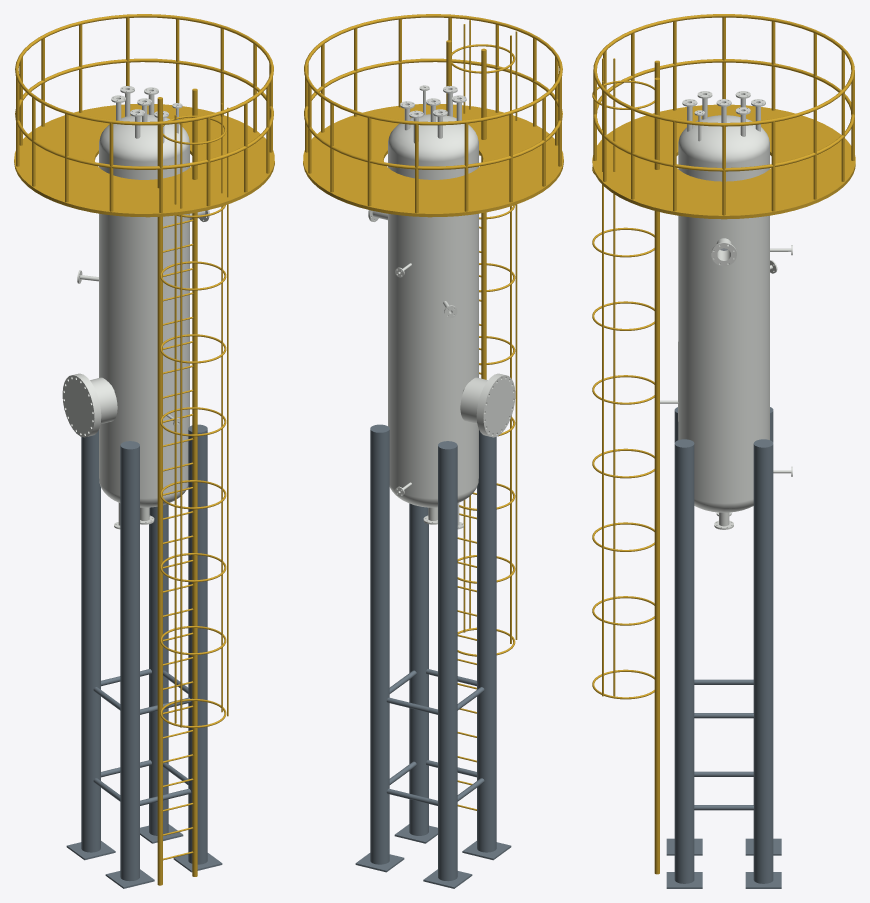
File: separator.glb
3 views of the same model, side by side, from view 1: azimuth 30°, elevation 25°; view 2: azimuth 150°, elevation 25°; view 3: azimuth 270°, elevation 25° (orthographic).
Parts seen in each view (by area): view 1: legs, V-1 shell, ladder and platform/part50, ladder and platform/part8, ladder and platform/part7, ladder and platform/part52, ladder and platform/part51, ladder and platform/part47, ladder and platform/part46, ladder and platform/part49, ladder and platform/part48; view 2: legs, V-1 shell, ladder and platform/part50, ladder and platform/part52, ladder and platform/part51, ladder and platform/part47, ladder and platform/part7, ladder and platform/part46, ladder and platform/part48; view 3: V-1 shell, legs, ladder and platform/part50, ladder and platform/part8, ladder and platform/part52, ladder and platform/part51, ladder and platform/part48, ladder and platform/part49.
Boxes of the visible parts, x1,y1,x2,y2 form: legs: (66,424,222,888); V-1 shell: (62,86,209,529); ladder and platform/part50: (14,104,274,217); ladder and platform/part8: (192,88,197,876); ladder and platform/part7: (157,97,162,885); ladder and platform/part52: (15,14,273,125); ladder and platform/part51: (15,58,273,169); ladder and platform/part47: (180,119,182,727); ladder and platform/part46: (174,114,176,723); ladder and platform/part49: (227,107,228,716); ladder and platform/part48: (221,103,222,712); legs: (355,424,511,888); V-1 shell: (368,85,515,529); ladder and platform/part50: (303,104,563,217); ladder and platform/part52: (304,14,562,125); ladder and platform/part51: (304,58,562,169); ladder and platform/part47: (515,31,517,639); ladder and platform/part7: (481,48,486,379); ladder and platform/part46: (510,35,511,643); ladder and platform/part48: (463,24,465,632); V-1 shell: (660,91,792,529); legs: (666,407,781,888); ladder and platform/part50: (592,104,855,219); ladder and platform/part8: (654,77,659,874); ladder and platform/part52: (593,14,854,126); ladder and platform/part51: (593,59,854,171); ladder and platform/part48: (613,81,615,696); ladder and platform/part49: (602,81,603,696).
Size of the model in its own units: 2.92 by 9.73 by 2.92.
